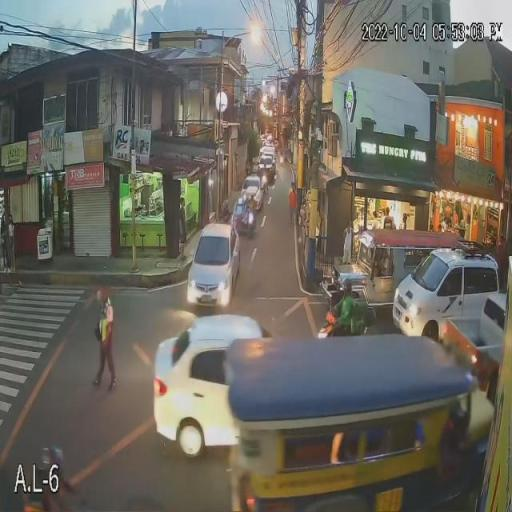helmet: (338, 278, 354, 298)
rider: (335, 276, 354, 333)
